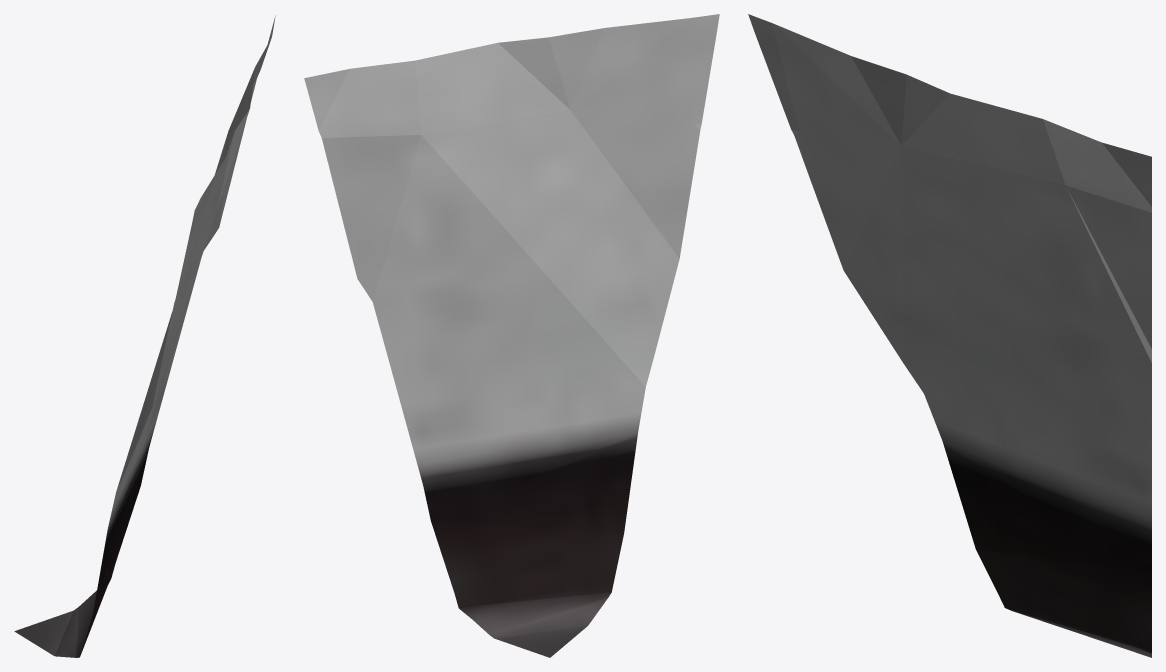
3 renders of one model, left to right at view 1: azimuth 30°, elevation 25°; view 2: azimuth 150°, elevation 25°; view 3: azimuth 270°, elevation 25°, orthographic. The views are drawn at different scales.
Bounding box in the file's own units: 0.059 × 0.1191 × 0.0705.
1 material, 1 textured.
